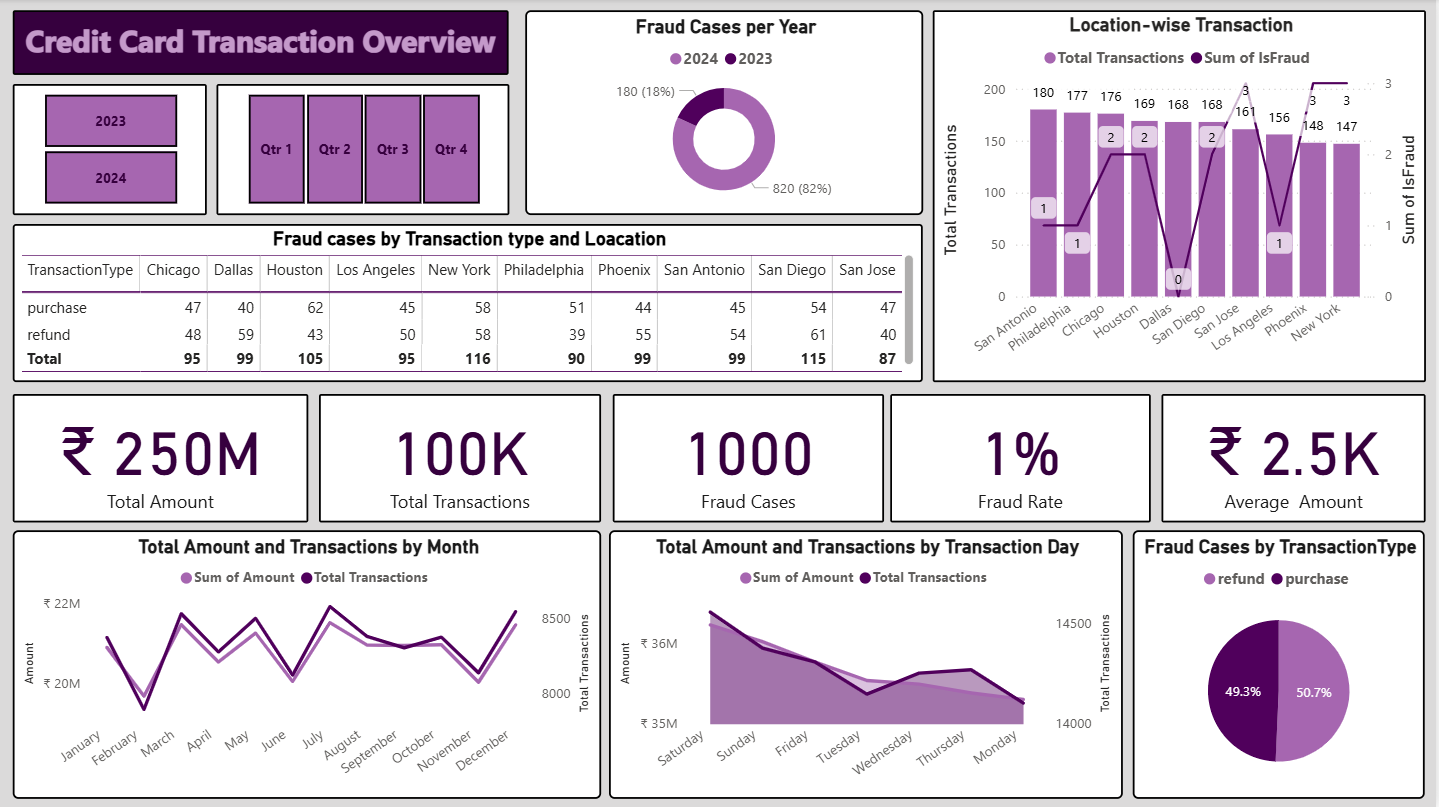

Layout of this report page (visuals, bound fields, positions):
{"tool":"powerbi","page":{"name":"Page 1","canvas":[1280,720],"ordinal":0},"visuals":[{"type":"lineChart","title":"Total Amount and Transactions by Month","fields":{"Y":["Sum(credit_card_fraud_dataset.Amount)"],"Y2":["credit_card_fraud_dataset.Total Transactions"],"Category":["credit_card_fraud_dataset.TransactionDate.Variation.Date Hierarchy.Month"]},"box":[12.4,473.4,524.1,238.9],"z":0},{"type":"areaChart","title":"Total Amount and Transactions by Transaction Day ","fields":{"Y":["Sum(credit_card_fraud_dataset.Amount)"],"Category":["credit_card_fraud_dataset.Transaction_Day Name"],"Y2":["credit_card_fraud_dataset.Total Transactions"]},"box":[543.3,473.4,457.6,238.9],"z":1000},{"type":"pivotTable","title":"Fraud cases by Transaction type and Loacation","fields":{"Values":["Sum(credit_card_fraud_dataset.IsFraud)"],"Columns":["credit_card_fraud_dataset.Location"],"Rows":["credit_card_fraud_dataset.TransactionType"]},"box":[12,200.6,810.7,140.5],"z":2000},{"type":"card","fields":{"Values":["credit_card_fraud_dataset.Total Transactions"]},"box":[284.6,351.9,251,114.1],"z":3000},{"type":"card","fields":{"Values":["Sum(credit_card_fraud_dataset.Amount)"]},"box":[12,351.9,263,114.1],"z":4000},{"type":"card","fields":{"Values":["credit_card_fraud_dataset.Total Fraud Cases"]},"box":[546.4,351.9,241.4,114.1],"z":5000},{"type":"card","fields":{"Values":["credit_card_fraud_dataset.Fraud Rate"]},"box":[793.8,351.9,231.8,114.1],"z":6000},{"type":"card","fields":{"Values":["Avg(credit_card_fraud_dataset.Amount)"]},"box":[1035.2,351.9,235.4,114.1],"z":7000},{"type":"textbox","box":[12,9.6,442,57.6],"z":8000},{"type":"pieChart","title":"Fraud Cases by TransactionType","fields":{"Y":["credit_card_fraud_dataset.Total Fraud Cases"],"Category":["credit_card_fraud_dataset.TransactionType"]},"box":[1009.9,473.4,260.4,238.9],"z":9000},{"type":"lineClusteredColumnComboChart","title":" Location-wise Transaction","fields":{"Category":["credit_card_fraud_dataset.Location"],"Y":["credit_card_fraud_dataset.Total Transactions"],"Y2":["Sum(credit_card_fraud_dataset.IsFraud)"]},"box":[831.1,9.6,439.6,331.5],"z":10000},{"type":"donutChart","title":" Fraud Cases per Year","fields":{"Y":["credit_card_fraud_dataset.Total Fraud Cases"],"Category":["credit_card_fraud_dataset.Transaction_Year"]},"box":[468.4,9.6,354.3,182.5],"z":11000},{"type":"slicer","fields":{"Values":["credit_card_fraud_dataset.TransactionDate.Variation.Date Hierarchy.Quarter"]},"box":[193.4,75.7,260.6,116.5],"z":12000},{"type":"slicer","fields":{"Values":["credit_card_fraud_dataset.Transaction_Year"]},"box":[12,75.7,172.9,116.5],"z":13000}]}

Visuals, with their boxes in screenshot pixels (x1, y1, x2, y2), scaled from the page's 1280x720 canvas onto the 1439x807 screenshot:
"Total Amount and Transactions by Month" lineChart: BBox(14, 531, 603, 798)
"Total Amount and Transactions by Transaction Day " areaChart: BBox(611, 531, 1125, 798)
"Fraud cases by Transaction type and Loacation" pivotTable: BBox(13, 225, 925, 382)
card - credit_card_fraud_dataset.Total Transactions: BBox(320, 394, 602, 522)
card - Sum(credit_card_fraud_dataset.Amount): BBox(13, 394, 309, 522)
card - credit_card_fraud_dataset.Total Fraud Cases: BBox(614, 394, 886, 522)
card - credit_card_fraud_dataset.Fraud Rate: BBox(892, 394, 1153, 522)
card - Avg(credit_card_fraud_dataset.Amount): BBox(1164, 394, 1428, 522)
textbox: BBox(13, 11, 510, 75)
"Fraud Cases by TransactionType" pieChart: BBox(1135, 531, 1428, 798)
" Location-wise Transaction" lineClusteredColumnComboChart: BBox(934, 11, 1429, 382)
" Fraud Cases per Year" donutChart: BBox(527, 11, 925, 215)
slicer - credit_card_fraud_dataset.TransactionDate.Variation.Date Hierarchy.Quarter: BBox(217, 85, 510, 215)
slicer - credit_card_fraud_dataset.Transaction_Year: BBox(13, 85, 208, 215)
